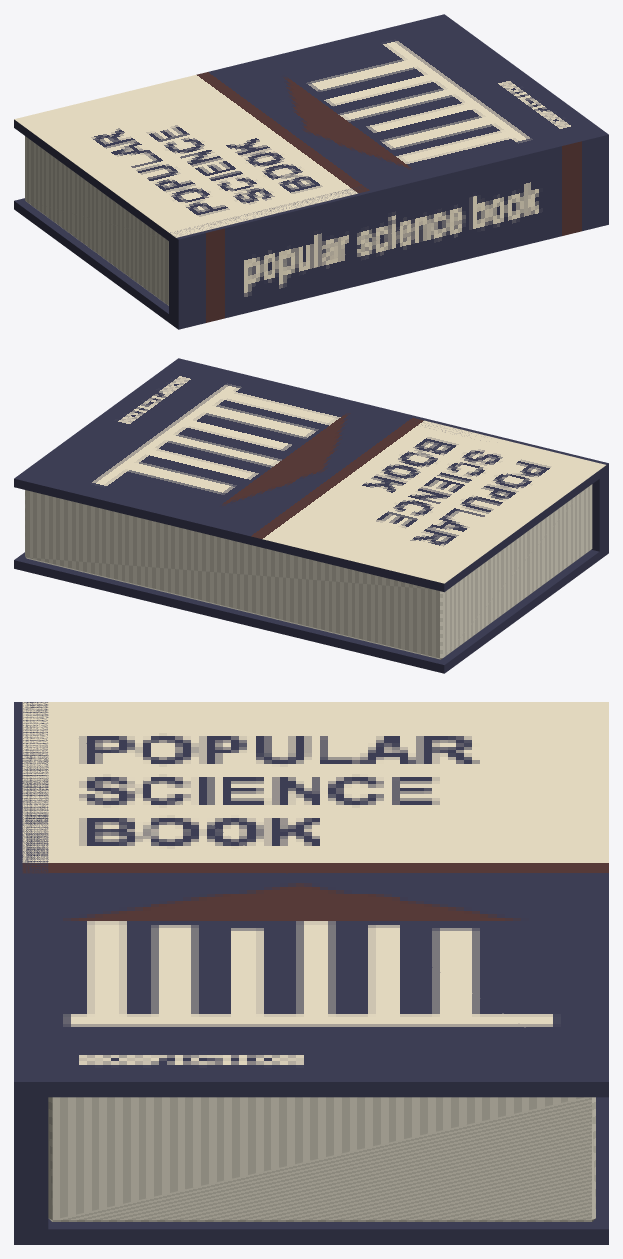
Rendered from book_nonf_hard_popular_science.glb.
3 renders of one model, top to bottom at view 1: azimuth 30°, elevation 25°; view 2: azimuth 150°, elevation 25°; view 3: azimuth 270°, elevation 25°, orthographic. The views are drawn at different scales.
Parts seen in each view (by area): view 1: block_front, block_spine, block_pages, block_back; view 2: block_front, block_pages, block_back, block_spine; view 3: block_front, block_pages, block_spine, block_back.
Boxes of the visible parts, x1,y1,x2,y2 form: block_front: (14, 14, 606, 245); block_spine: (169, 127, 608, 329); block_pages: (25, 136, 168, 305); block_back: (14, 198, 175, 327); block_front: (14, 360, 606, 592); block_pages: (25, 484, 592, 659); block_back: (14, 547, 606, 673); block_spine: (173, 358, 608, 554); block_front: (22, 702, 608, 1097); block_pages: (48, 1097, 595, 1221); block_spine: (14, 702, 48, 1244); block_back: (22, 1097, 608, 1244).
Size of the model in its own units: 0.255 by 0.051 by 0.1688.
1 material, 1 textured.
